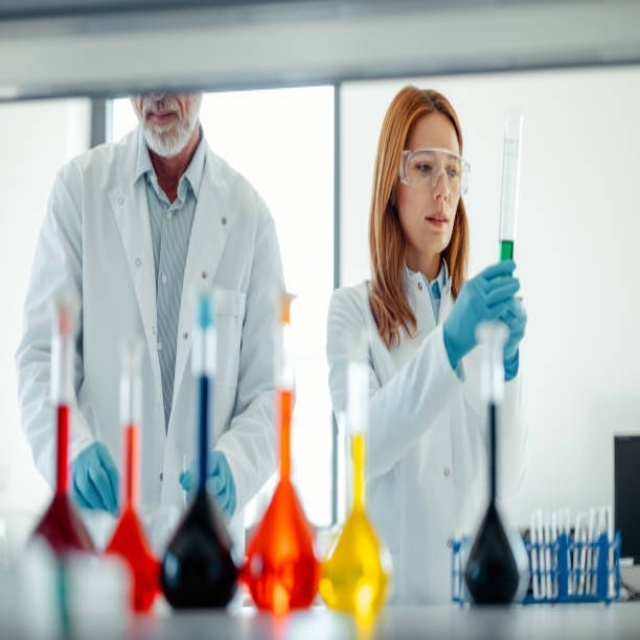Gafas: (399, 148, 470, 196)
Guantes: (443, 259, 529, 378), (59, 435, 127, 516), (178, 447, 238, 522)
Sin_mascara: (142, 100, 183, 144), (418, 207, 453, 242)
